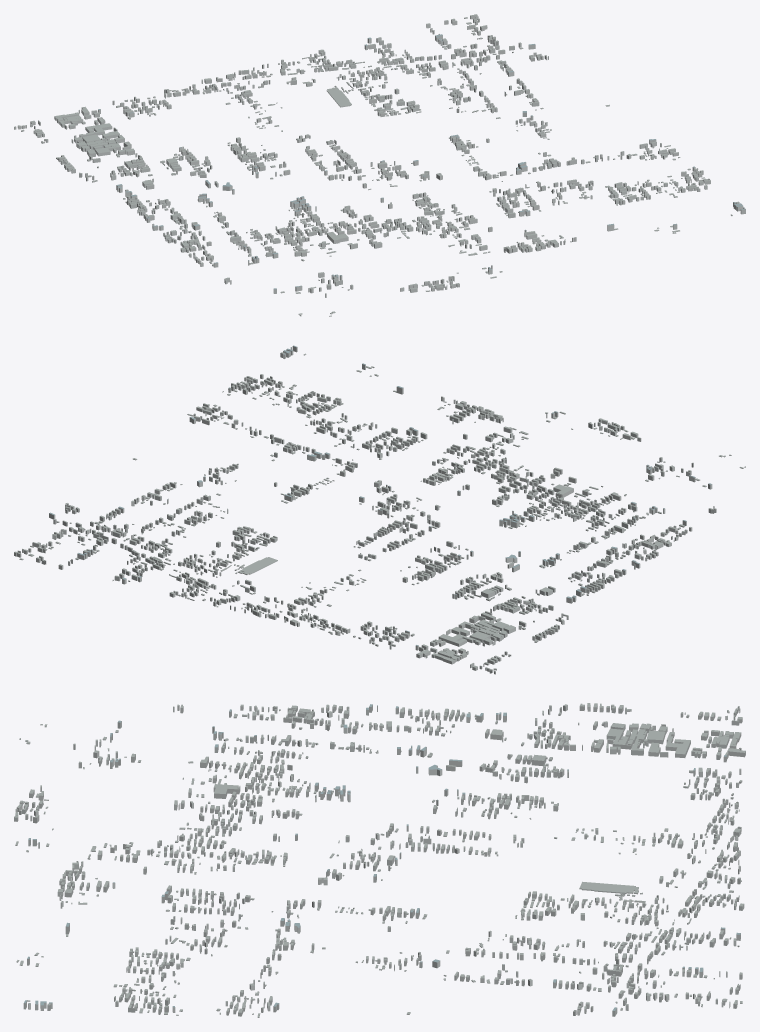
The model's file is far.glb.
3 renders of one model, top to bottom at view 1: azimuth 30°, elevation 25°; view 2: azimuth 150°, elevation 25°; view 3: azimuth 270°, elevation 25°, orthographic. The views are drawn at different scales.
Bounding box in the file's own units: 2105 × 24.75 × 2099.
